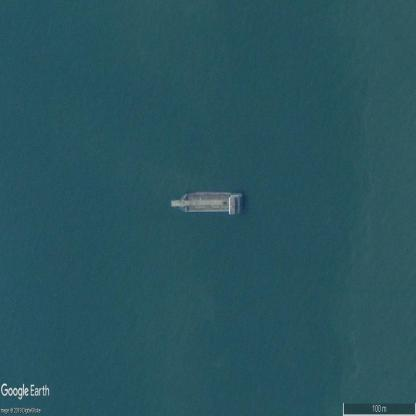ship: (170, 192, 244, 216)
